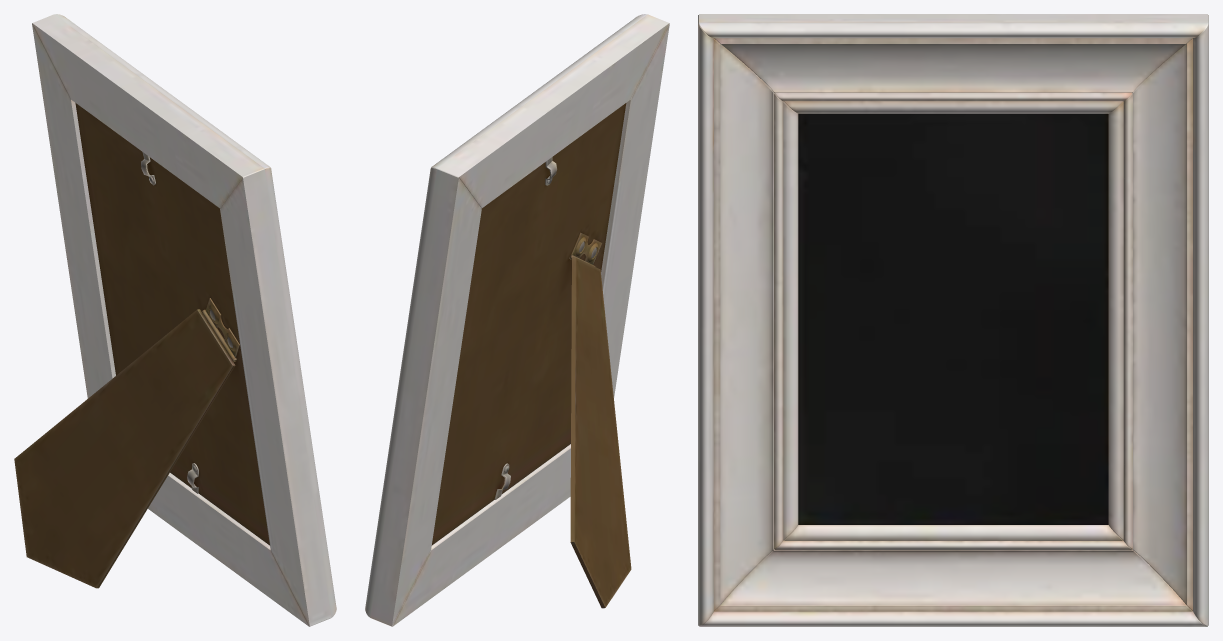
File: standing_picture_frame_02.glb
3 views of the same model, side by side, from view 1: azimuth 30°, elevation 25°; view 2: azimuth 150°, elevation 25°; view 3: azimuth 270°, elevation 25° (orthographic). The views are drawn at different scales.
Visible parts, largest first — view 1: standing_picture_frame_02; view 2: standing_picture_frame_02; view 3: standing_picture_frame_02.
Boxes of the visible parts, x1,y1,x2,y2 form: standing_picture_frame_02: (14, 14, 336, 626); standing_picture_frame_02: (365, 14, 669, 626); standing_picture_frame_02: (698, 14, 1208, 626).
Bounding box in the file's own units: 0.1023 × 0.2664 × 0.2169.
Materials: 3 (3 with a texture image).
